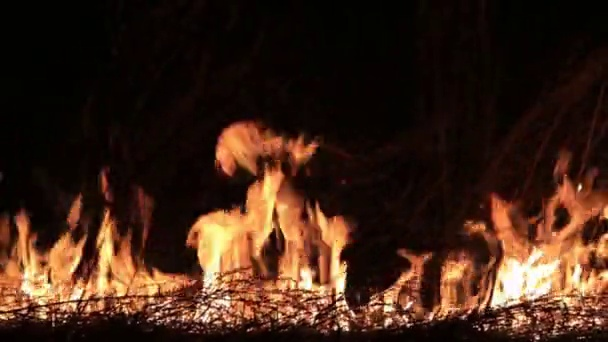fire: (190, 121, 355, 323), (493, 191, 608, 310), (97, 188, 186, 313), (1, 198, 85, 316), (367, 248, 426, 315), (441, 254, 478, 312)
